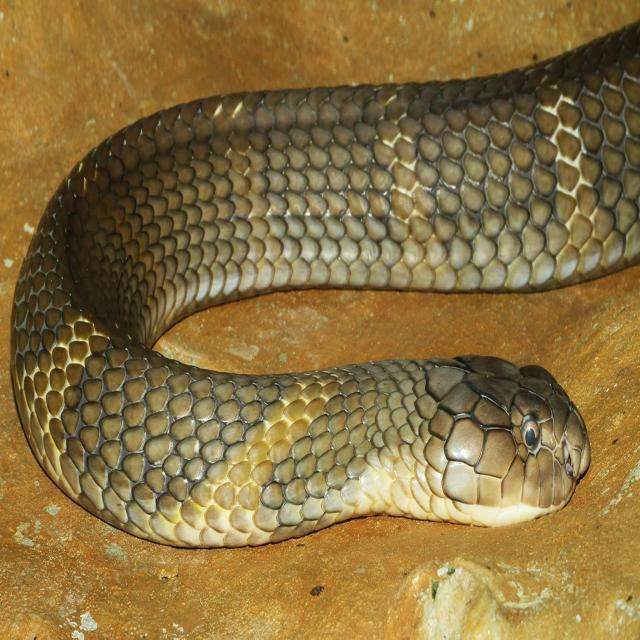Snake: (9, 18, 639, 550)
